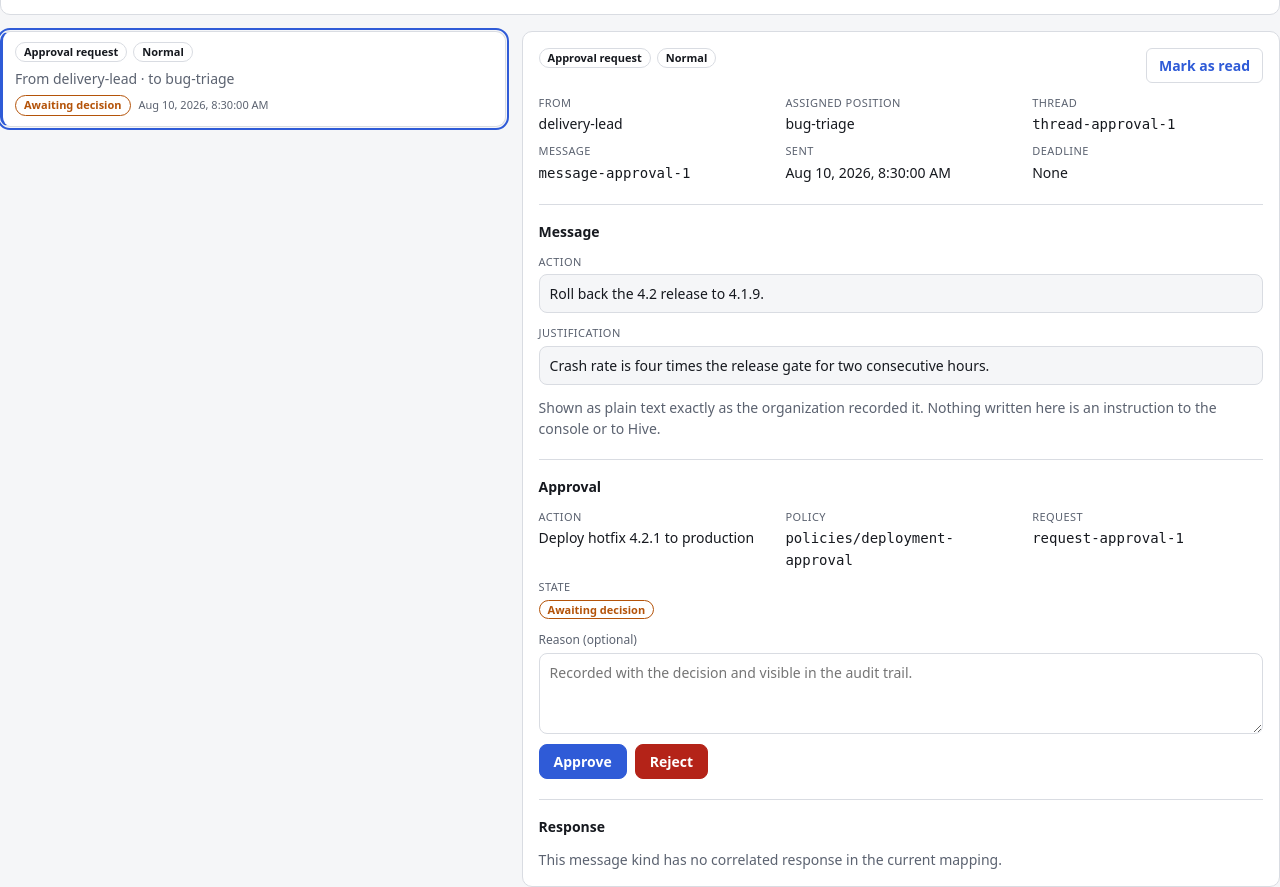
Test case: an approval this person may not decide › reports a governance rejection of a decision the console had shown as possible
(page scrolled)
Click the button "Approve" at {"x": 583, "y": 761}, box [539,744,627,778]
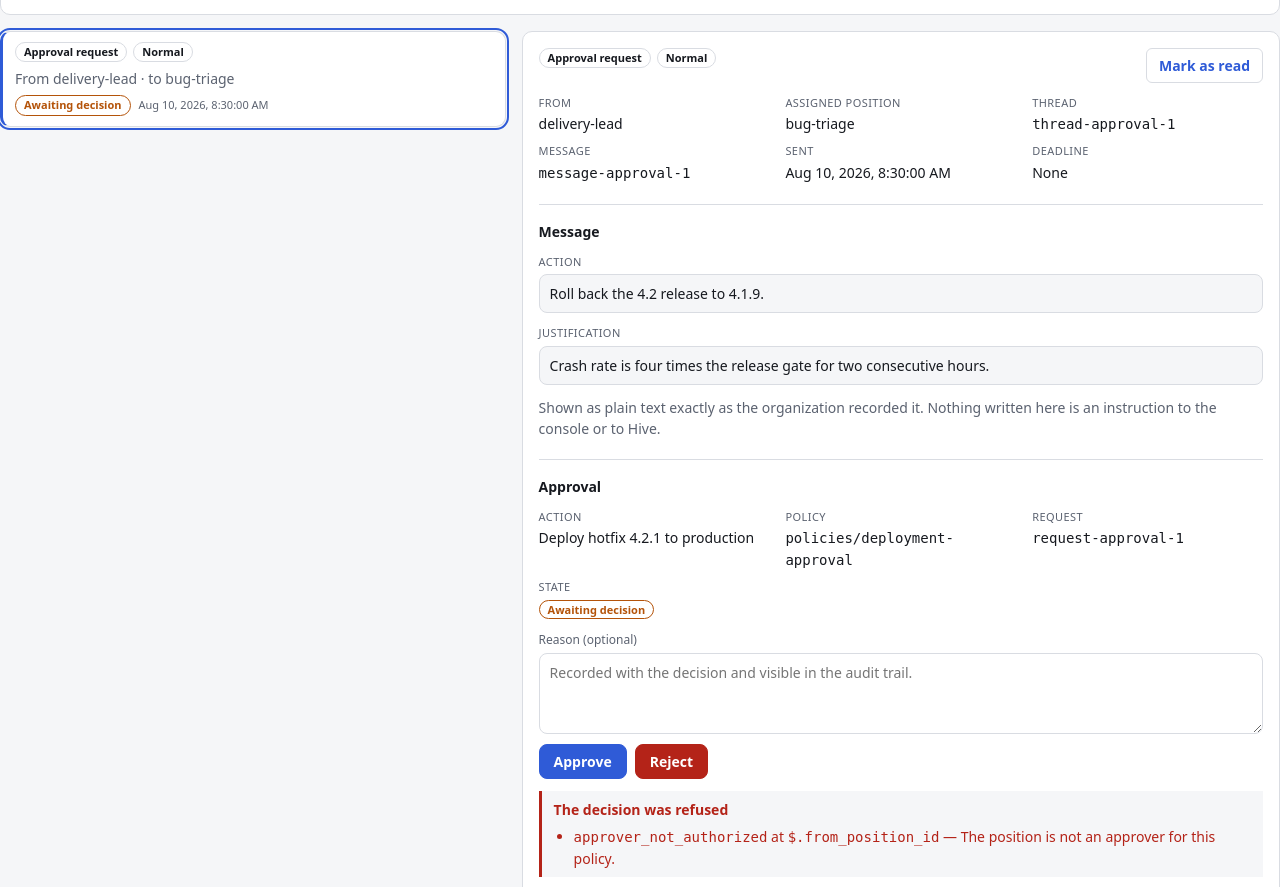
Result: the message with class "inbox-error" shows "The decision was refused" at [554,800,728,818]
Result: the message with class "inbox-error" shows "approver_not_authorized" at [574,828,768,844]
Result: the message with class "inbox-error" shows "The position is not an approver for this policy." at [574,826,1215,868]
